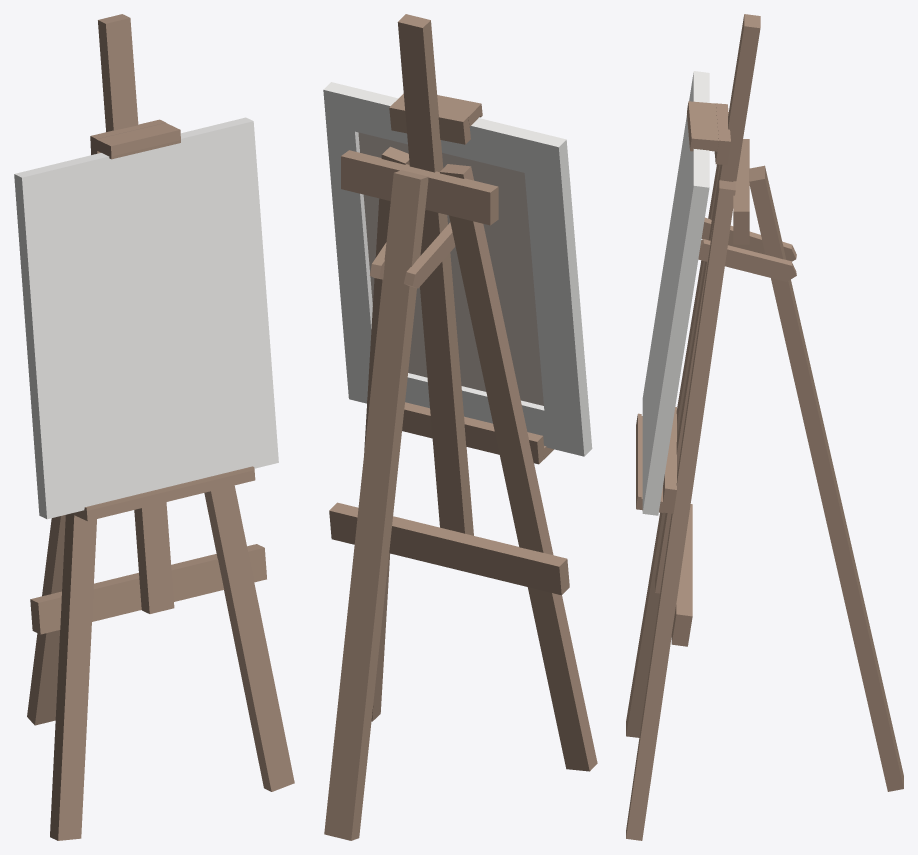
The model's file is Easel.fbx.
The picture shows the model from 3 angles, left to right: view 1: azimuth 30°, elevation 25°; view 2: azimuth 150°, elevation 25°; view 3: azimuth 270°, elevation 25°; orthographic projection.
Parts seen in each view (by area): view 1: Easel; view 2: Easel; view 3: Easel.
Part boxes in pixels (x1,y1,x2,y2): Easel: [14, 14, 294, 840]; Easel: [323, 14, 597, 840]; Easel: [626, 14, 903, 840].
Bounding box in the file's own units: 69.66 × 68.88 × 209.
